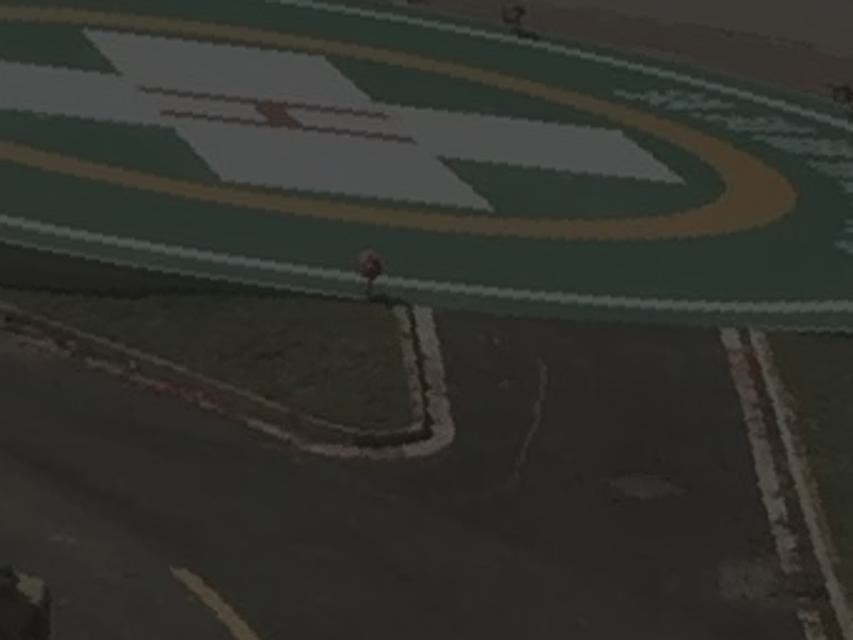Apron: (1, 2, 801, 244)
